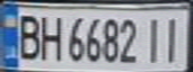2: (118, 15, 142, 64)
6: (63, 12, 87, 62), (84, 14, 103, 63)
8: (100, 15, 121, 64)
B: (12, 11, 42, 61)
H: (36, 11, 63, 62)
I: (160, 12, 187, 64), (142, 13, 169, 64)
